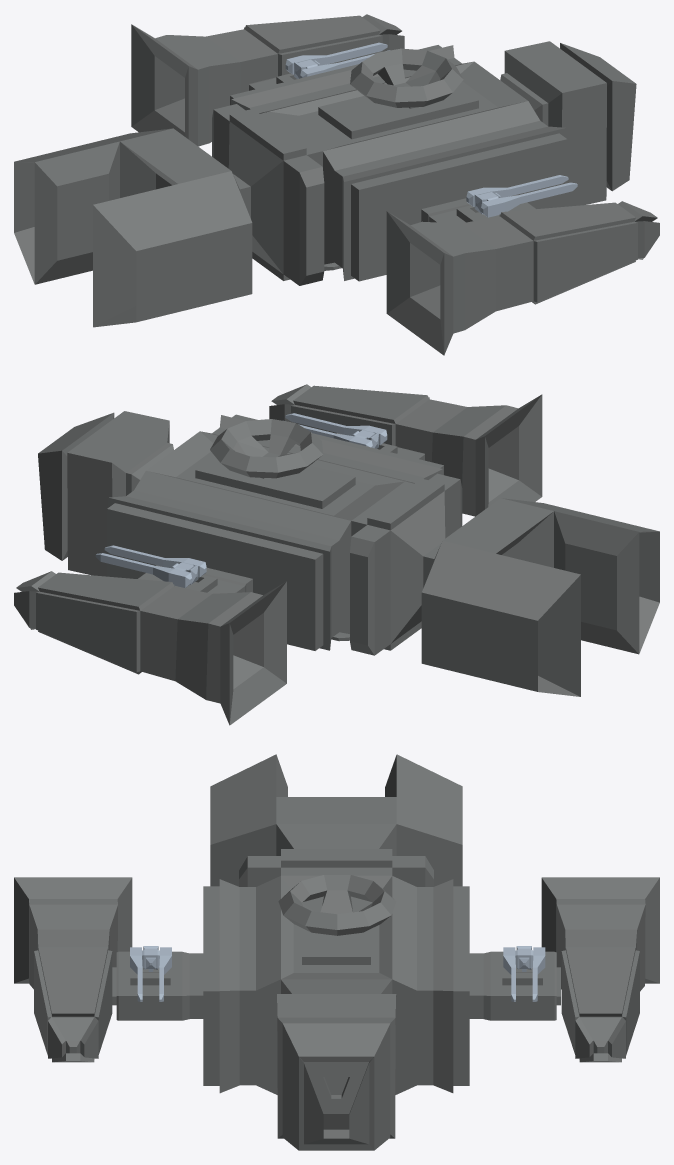
The model's file is ship.obj.
3 renders of one model, top to bottom at view 1: azimuth 30°, elevation 25°; view 2: azimuth 150°, elevation 25°; view 3: azimuth 270°, elevation 25°, orthographic. The views are drawn at different scales.
Visible parts, largest first — view 1: Body, Right_Thruster, Left_Thruster, Right_Turret, Left_Turret; view 2: Body, Left_Thruster, Right_Thruster, Left_Turret, Right_Turret; view 3: Body, Left_Thruster, Right_Thruster, Left_Turret, Right_Turret.
Part boxes in pixels (left/top/right/bottom): Body: left=14, top=41, right=636, bottom=327; Right_Thruster: left=386, top=201, right=659, bottom=355; Left_Thruster: left=131, top=14, right=404, bottom=146; Right_Turret: left=466, top=175, right=577, bottom=217; Left_Turret: left=285, top=42, right=389, bottom=78; Body: left=38, top=411, right=659, bottom=696; Left_Thruster: left=14, top=571, right=286, bottom=725; Right_Thruster: left=269, top=384, right=542, bottom=516; Left_Turret: left=95, top=545, right=206, bottom=587; Right_Turret: left=283, top=413, right=387, bottom=448; Body: left=112, top=754, right=560, bottom=1150; Left_Thruster: left=541, top=877, right=659, bottom=1062; Right_Thruster: left=14, top=877, right=132, bottom=1062; Left_Turret: left=503, top=946, right=545, bottom=1001; Right_Turret: left=130, top=946, right=171, bottom=1001.
Size of the model in its own units: 8 by 2.23 by 7.74.
